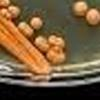orange: (47, 46, 66, 64), (70, 0, 88, 18), (84, 7, 100, 26), (32, 35, 48, 52), (6, 4, 21, 18), (30, 16, 42, 30), (54, 35, 65, 48), (46, 32, 55, 46), (1, 8, 12, 19), (17, 20, 27, 32), (24, 26, 33, 38), (0, 0, 10, 6)
